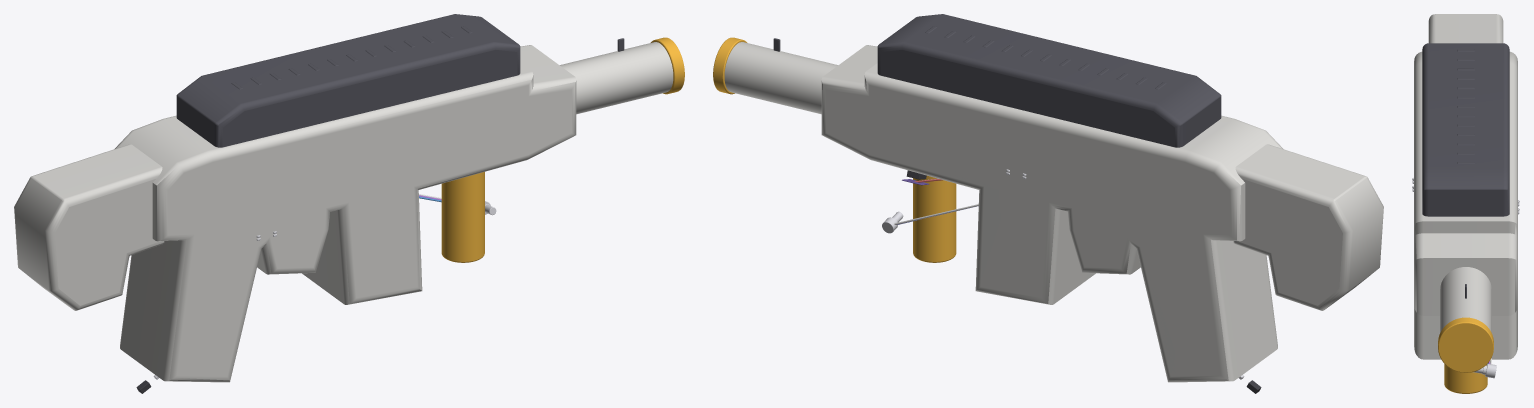
File: aimbot.glb
3 views of the same model, side by side, from view 1: azimuth 30°, elevation 25°; view 2: azimuth 150°, elevation 25°; view 3: azimuth 270°, elevation 25° (orthographic).
Visible parts, largest first — view 1: shell_left, slide, stock, barrel, shell_right, foregrip, muzzle; view 2: shell_right, slide, stock, barrel, shell_left, foregrip, muzzle; view 3: slide, shell_left, shell_right, barrel, muzzle, stock, foregrip, rail, pot.
Boxes of the visible parts, <box> form: shell_left: <box>142,61,576,382</box>; slide: <box>176,14,520,147</box>; stock: <box>14,144,164,310</box>; barrel: <box>560,42,673,114</box>; shell_right: <box>115,45,552,364</box>; foregrip: <box>441,172,484,262</box>; muzzle: <box>650,37,684,94</box>; shell_right: <box>821,61,1255,382</box>; slide: <box>877,14,1221,147</box>; stock: <box>1233,144,1383,310</box>; barrel: <box>724,42,837,114</box>; shell_left: <box>845,45,1282,364</box>; foregrip: <box>913,175,956,262</box>; muzzle: <box>713,37,747,94</box>; slide: <box>1422,43,1509,216</box>; shell_left: <box>1414,51,1465,359</box>; shell_right: <box>1466,51,1517,359</box>; barrel: <box>1440,267,1491,332</box>; muzzle: <box>1438,317,1493,372</box>; stock: <box>1428,14,1503,43</box>; foregrip: <box>1444,364,1487,393</box>; rail: <box>1457,49,1474,163</box>; pot: <box>1473,363,1496,378</box>.
Size of the model in its own units: 3.58 by 1.51 by 0.5156.
